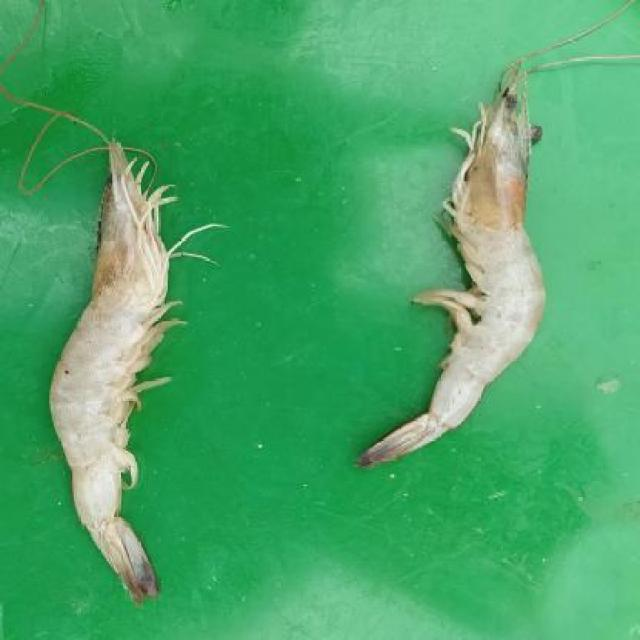shrimp: (355, 53, 556, 476), (44, 114, 183, 609)
